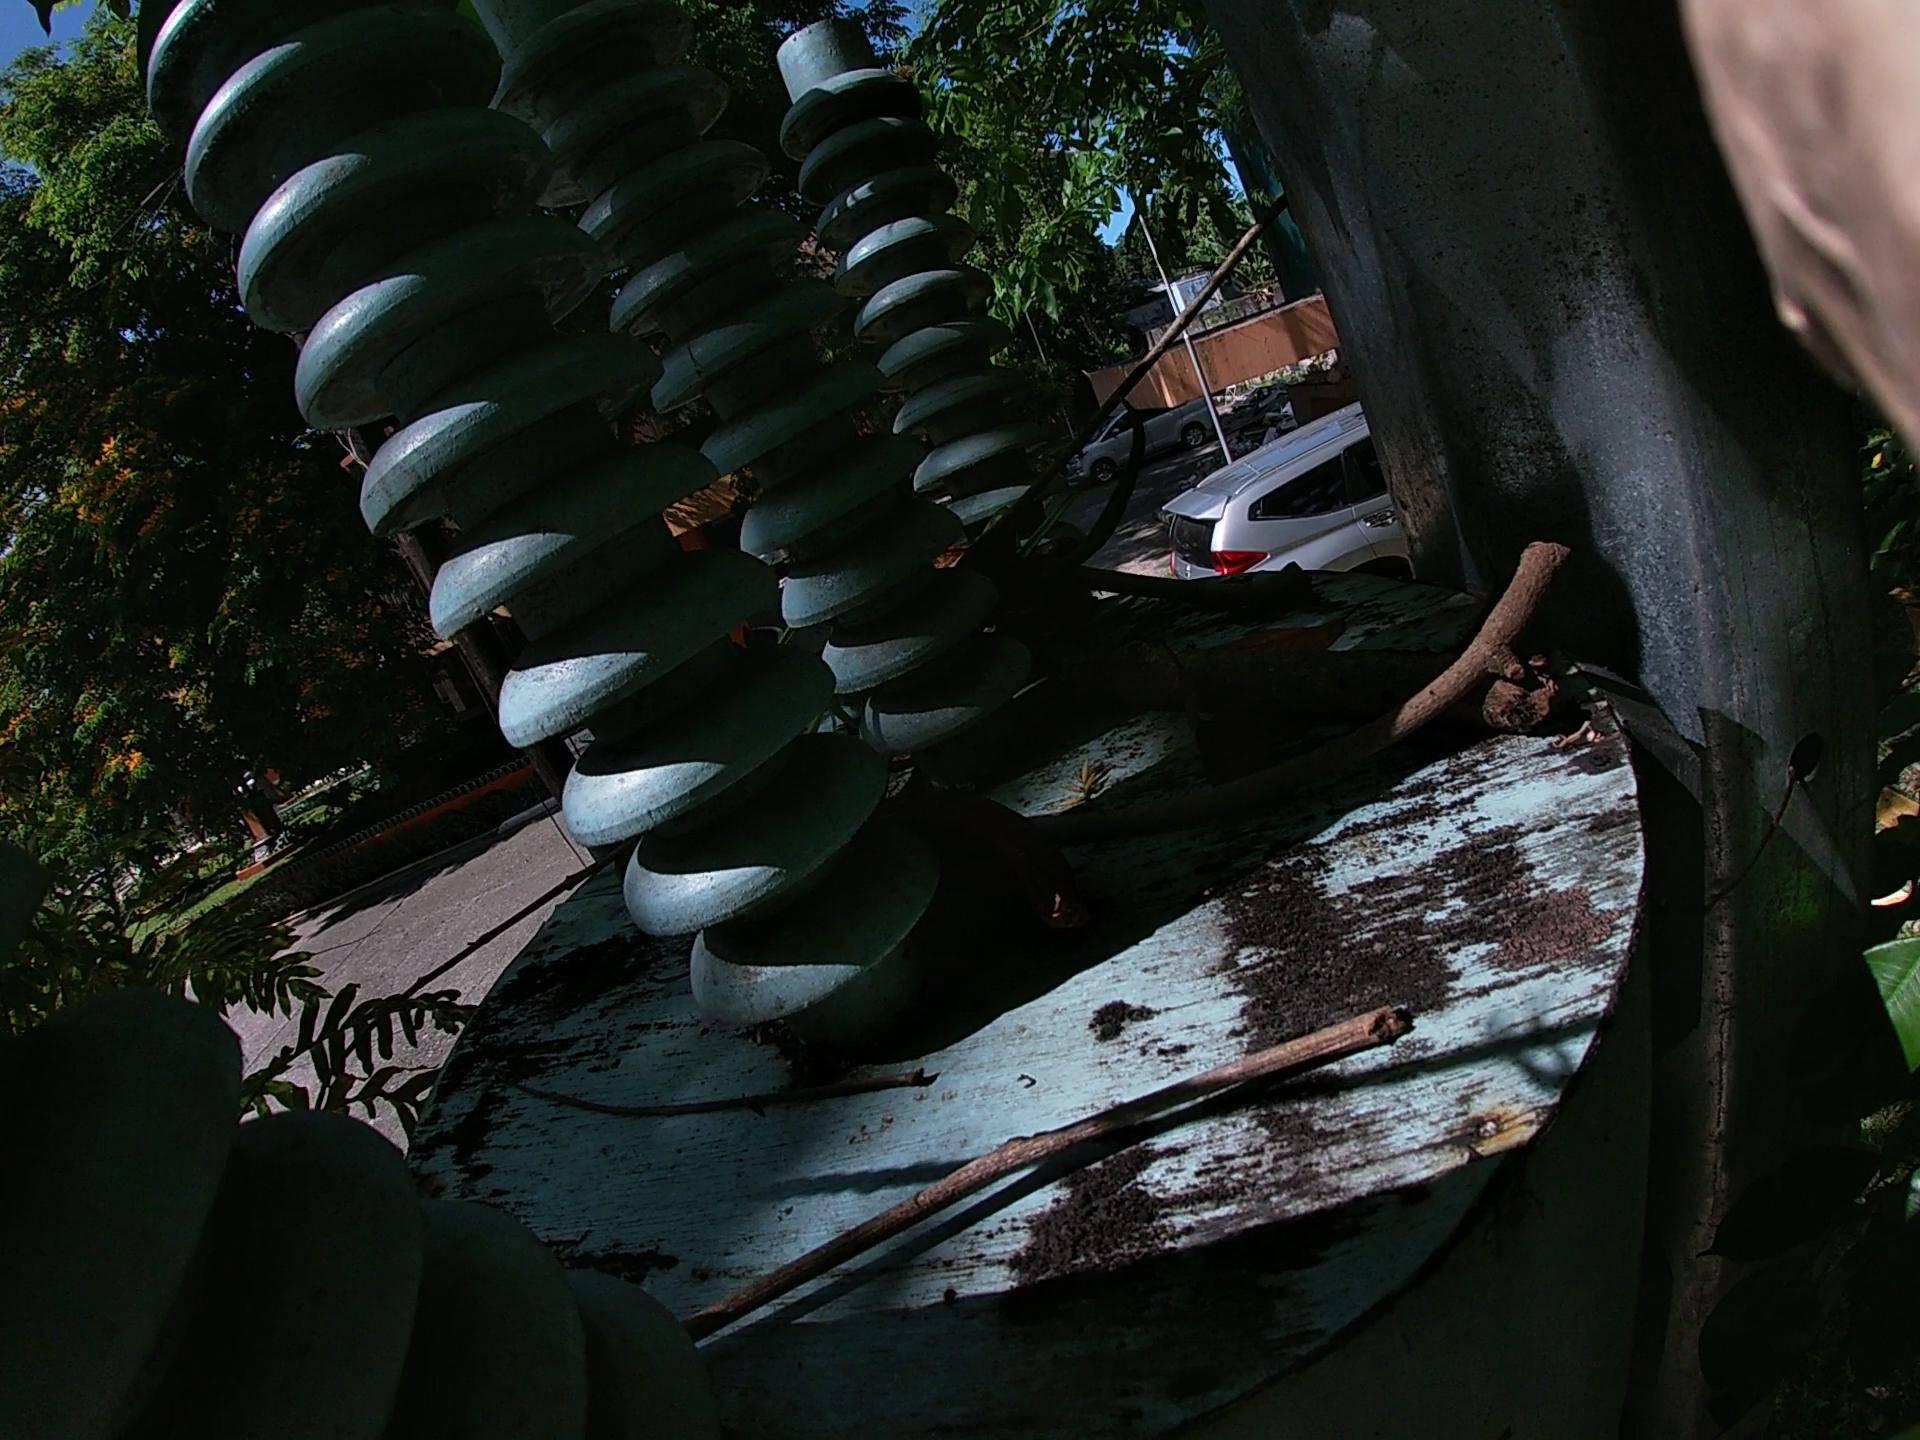branch with leaves: (992, 479, 1488, 711)
leaf: (1134, 585, 1385, 771)
mahogany fruit: (869, 430, 1178, 725), (868, 700, 1090, 1042)
tree branch: (646, 1054, 1358, 1340), (930, 115, 1281, 594), (989, 554, 1702, 725), (425, 1015, 930, 1137)
